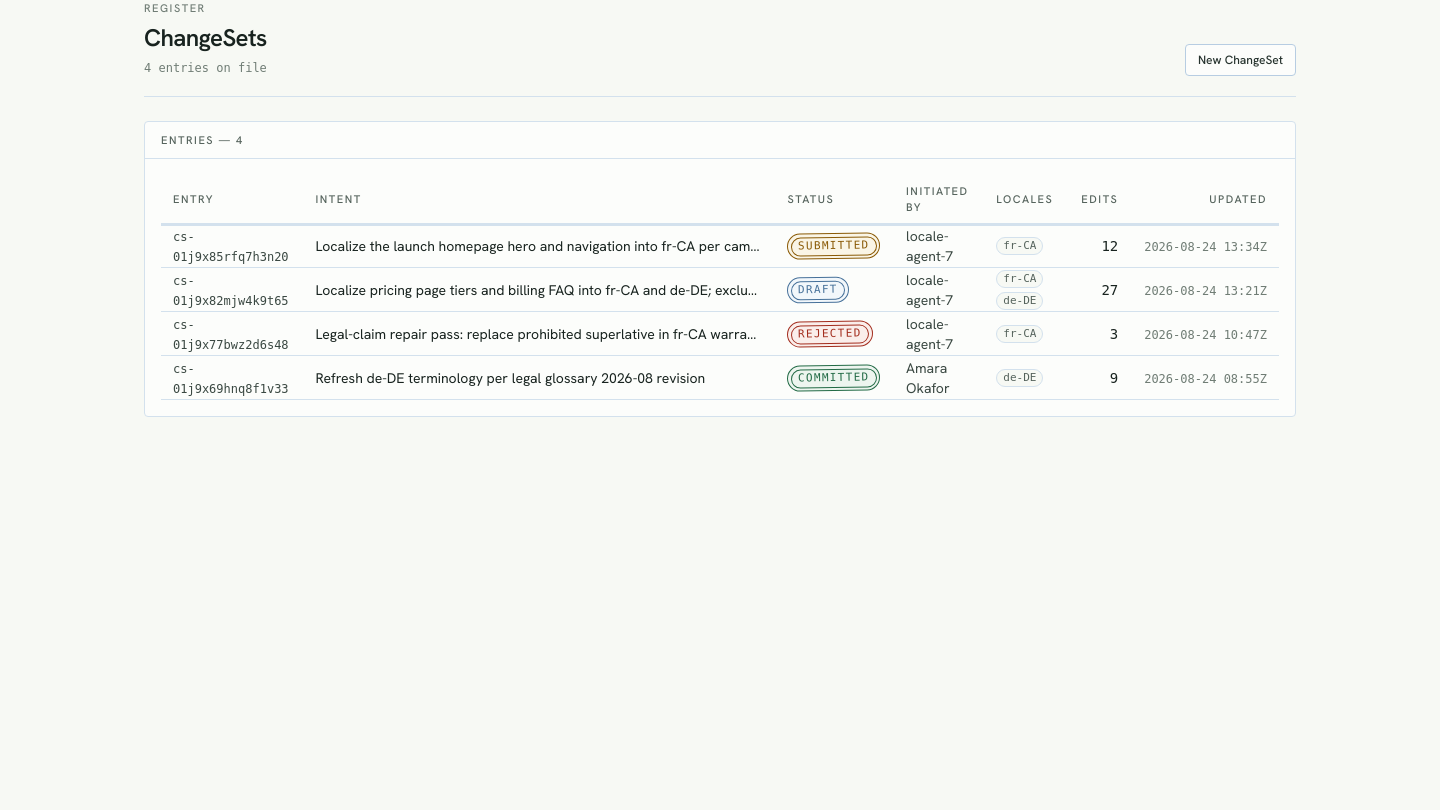
Scenario: ChangesetsPage › opens a draft entry optimistically from the New ChangeSet dialog
The image size is (1440, 810).
Click the button "New ChangeSet" at (1240,60), box [1185,44,1296,76]
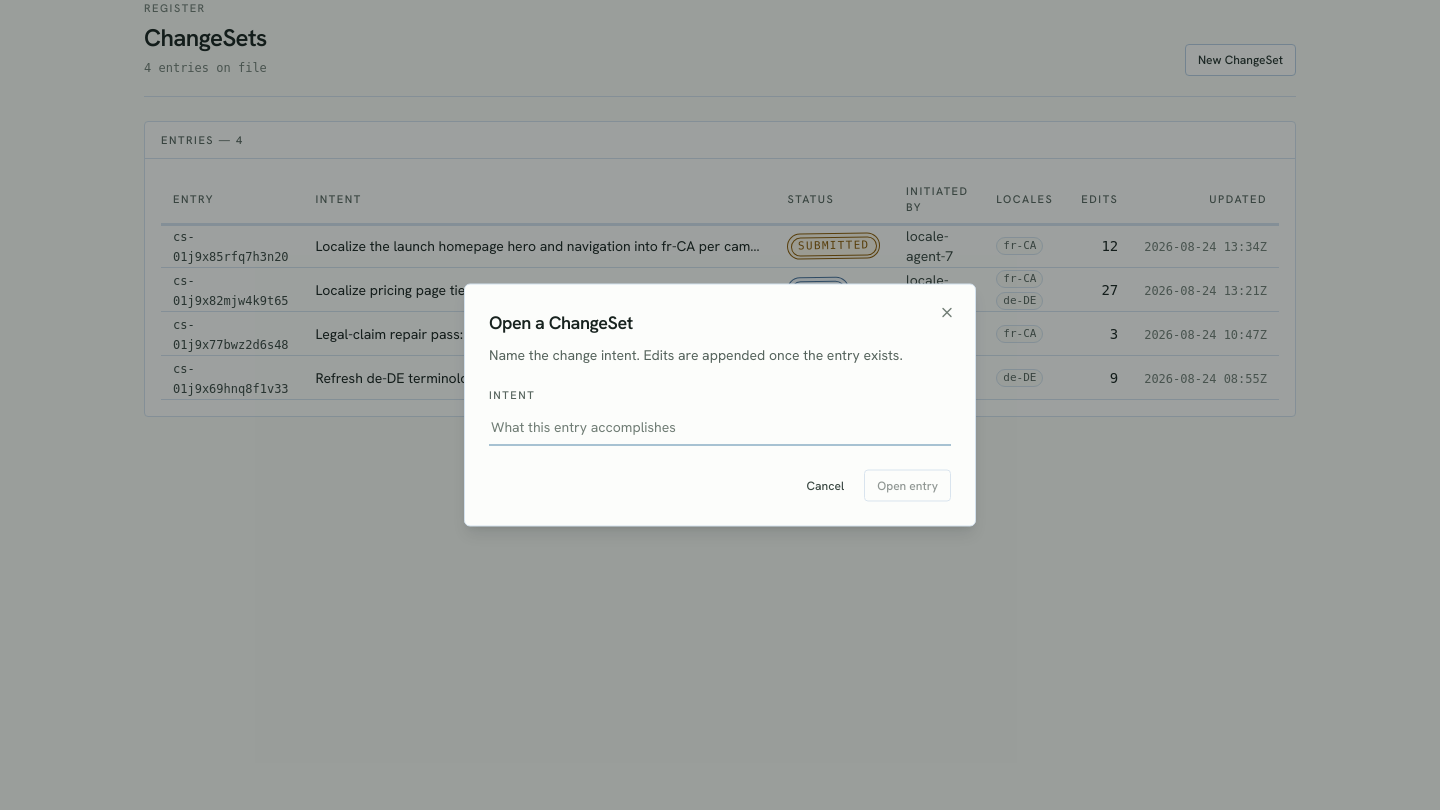
Check: the dialog is shown, box [464,284,976,526]
Check: the button "Open entry" is disabled, box [864,470,951,502]
Type "Add FAQ entry covering enterprise billing" into the field labelled "Intent" at (720,427), box [489,408,951,446]
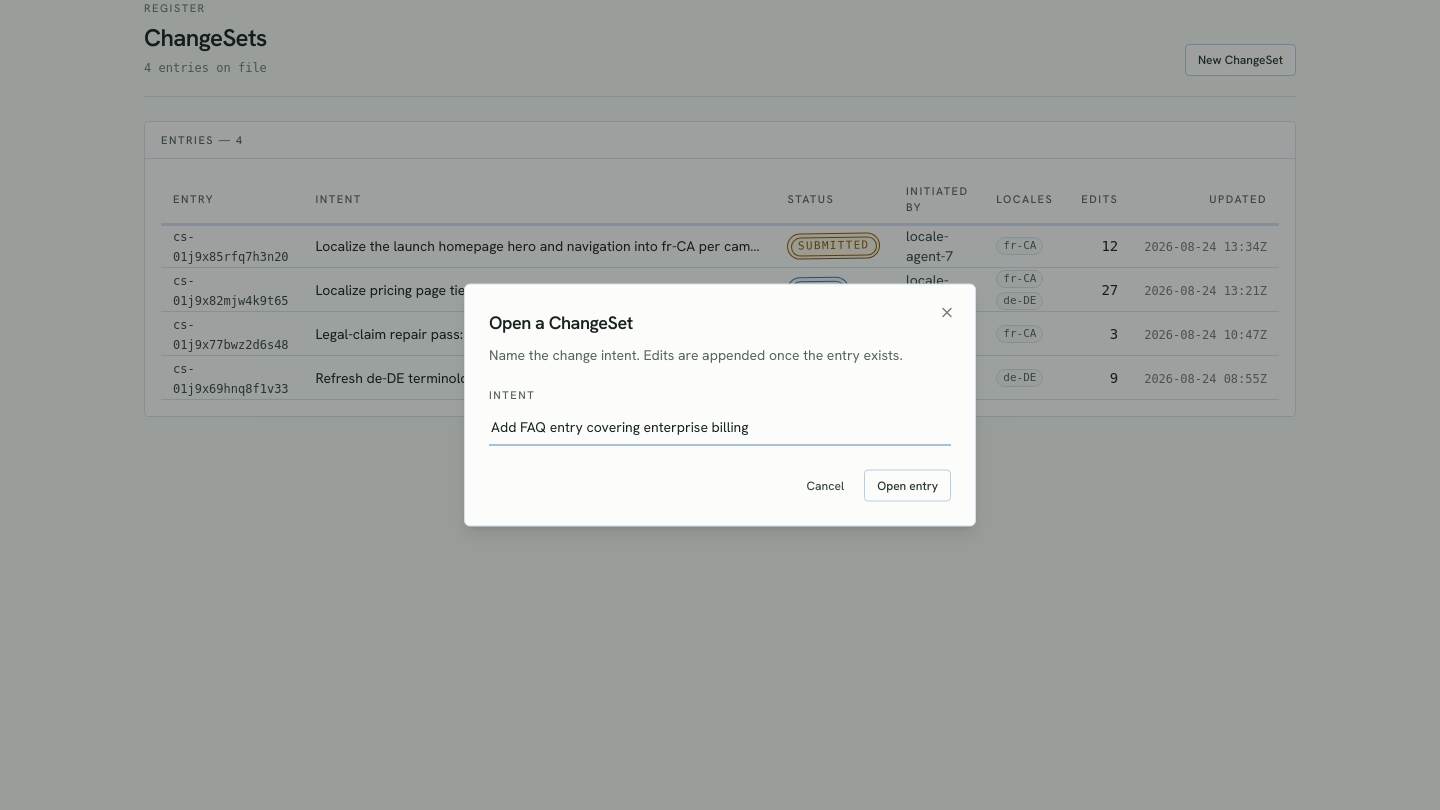
Click the button "Open entry" at (908,486), box [864,470,951,502]
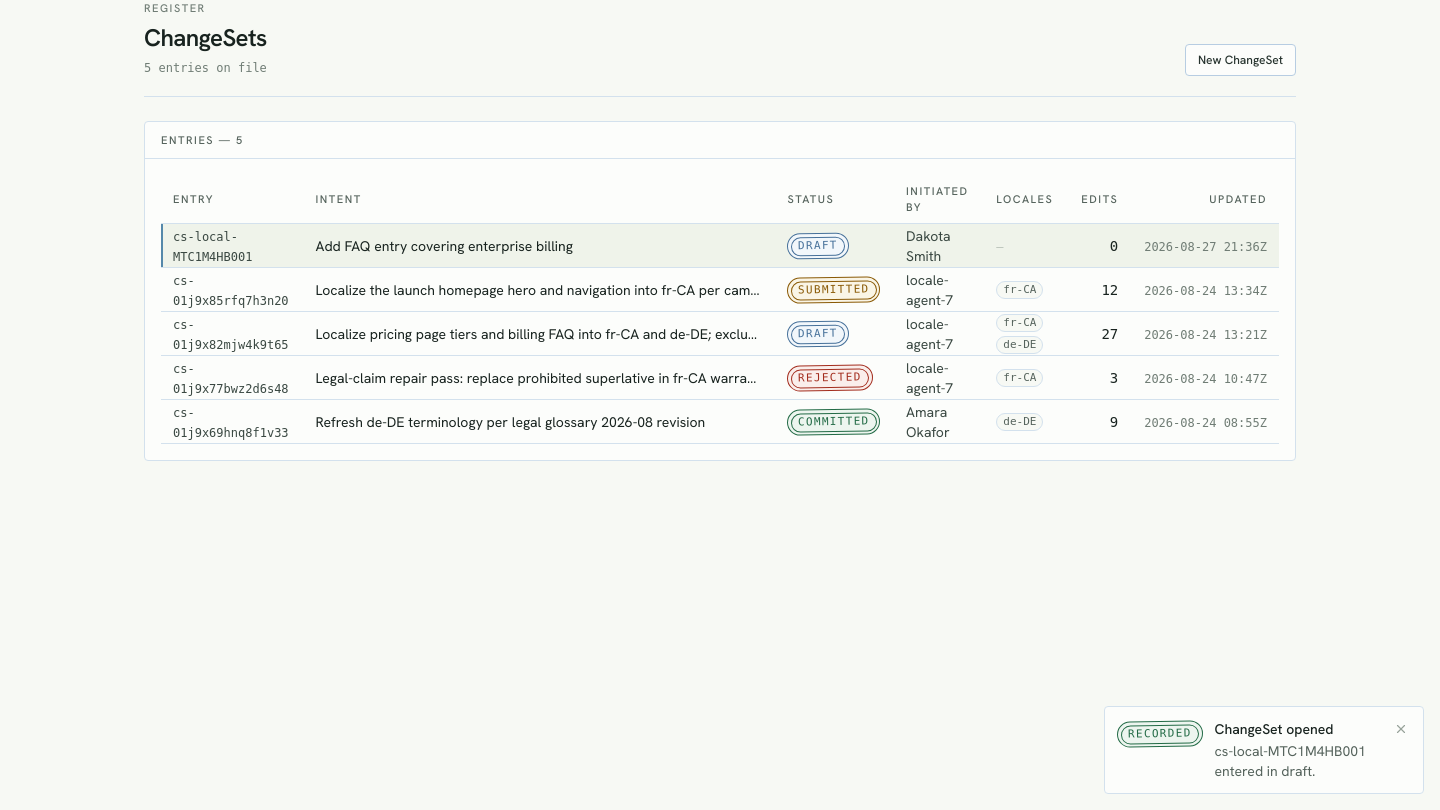
Check: the text "Add FAQ entry covering enterprise billing" is shown, box [316,236,573,254]
Check: the text "ChangeSet opened" is shown, box [1214,720,1333,738]
Check: the dialog is gone
